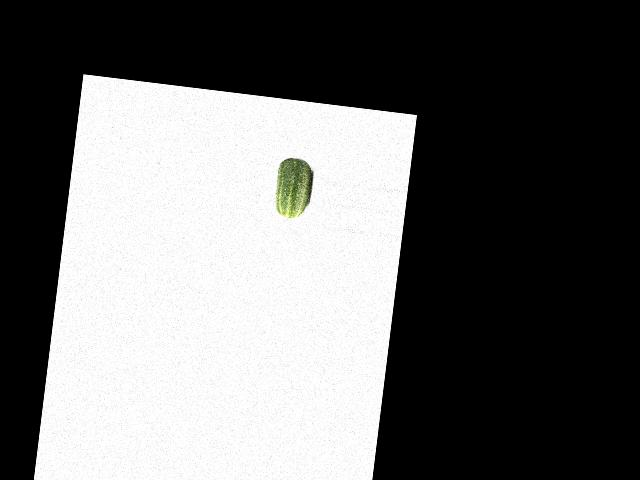cucumber: (273, 155, 314, 219)
